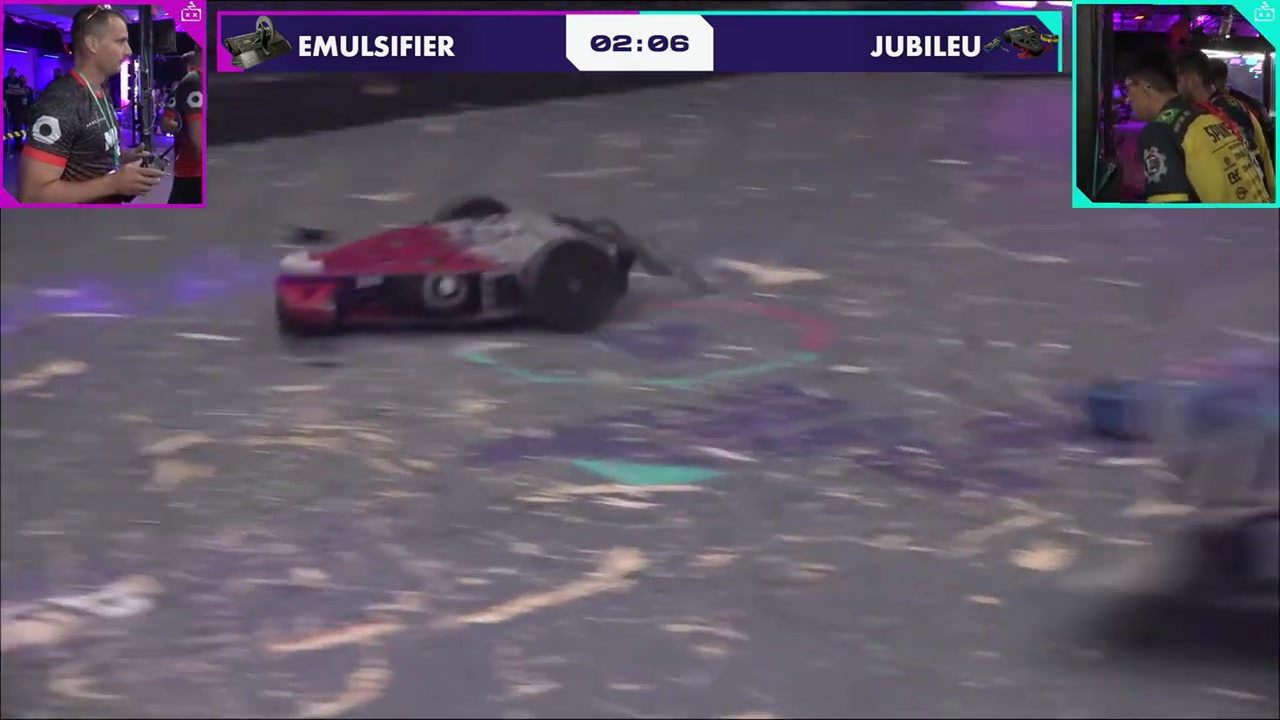combatbot: (276, 196, 637, 334)
